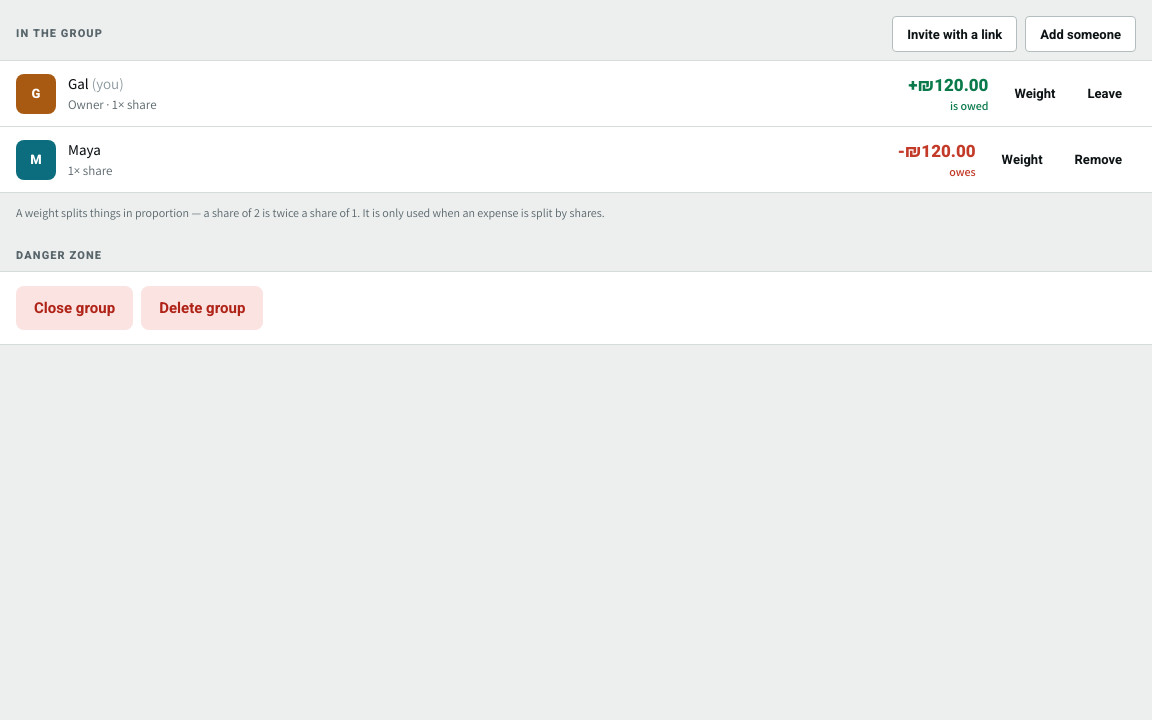
Scenario: the danger zone › keeps delete disabled until the group name is typed exactly
Click the button "Delete group".
click(202, 308)  # box top-left (141, 286), bottom-right (263, 330)
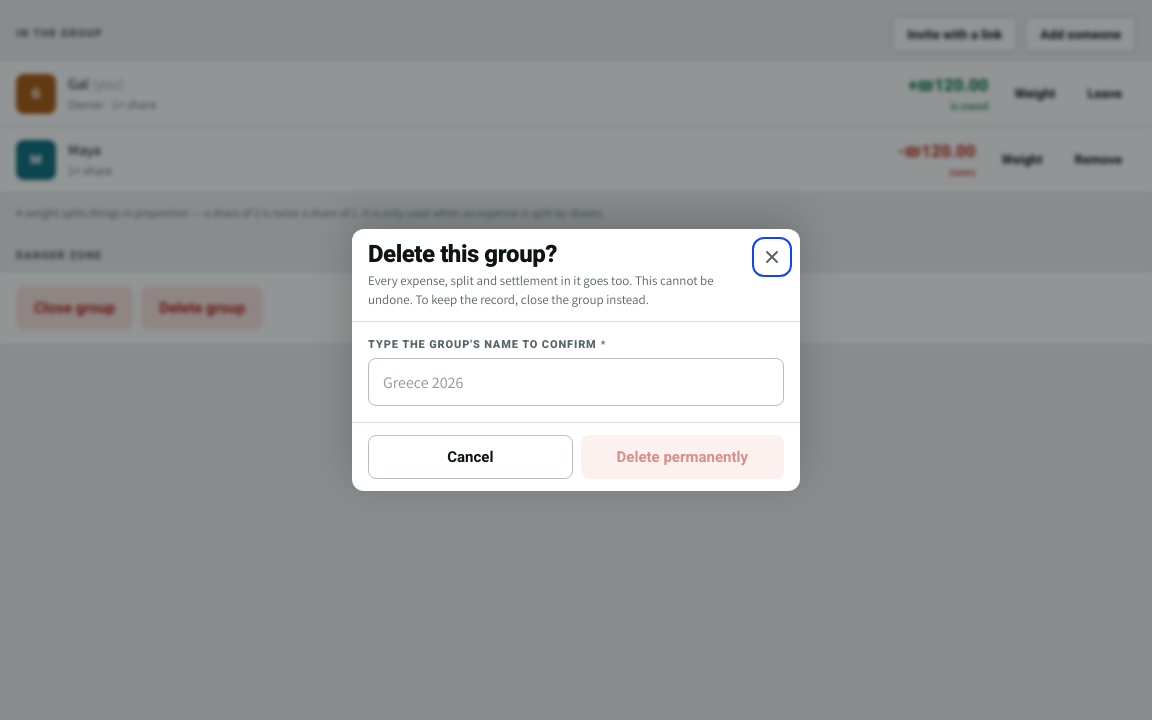
Check: the button "Delete permanently" is disabled, box top-left (581, 435), bottom-right (784, 479)
Type "Greece" into the field labelled "Type the group's name to confirm*".
click(576, 382); type("Greece")  # box top-left (368, 358), bottom-right (784, 406)
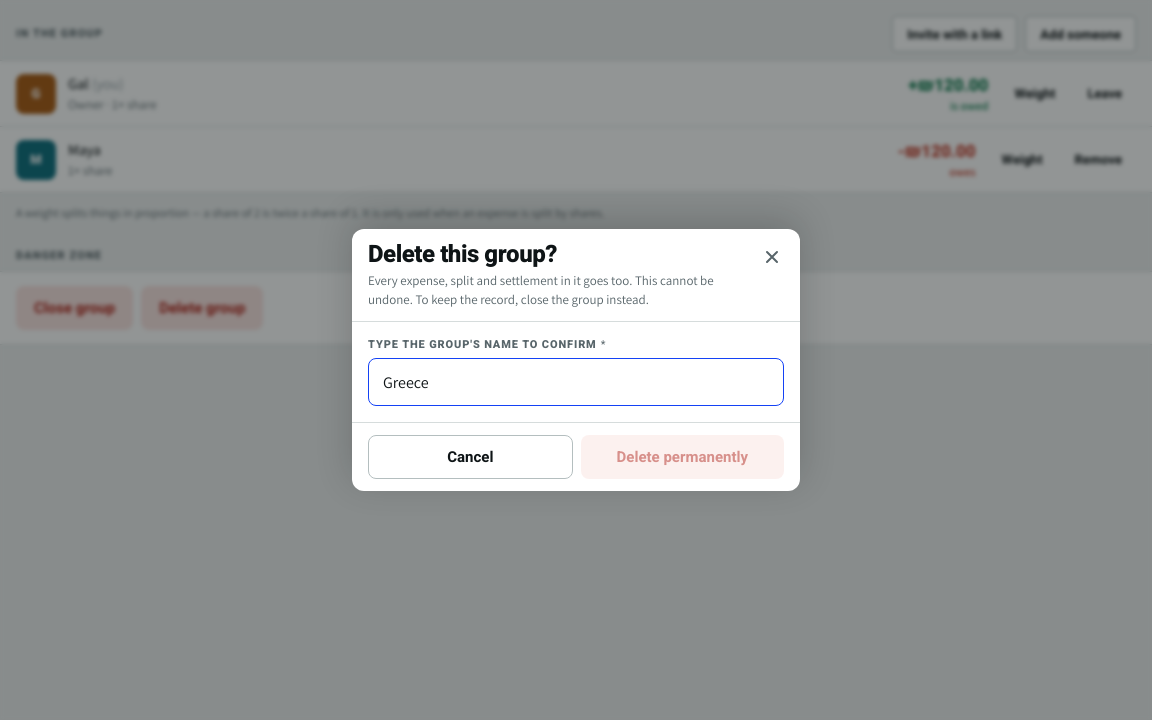
Check: the button "Delete permanently" is disabled, box top-left (581, 435), bottom-right (784, 479)
Type " 2026" into the field labelled "Type the group's name to confirm*".
click(576, 382); type(" 2026")  # box top-left (368, 358), bottom-right (784, 406)
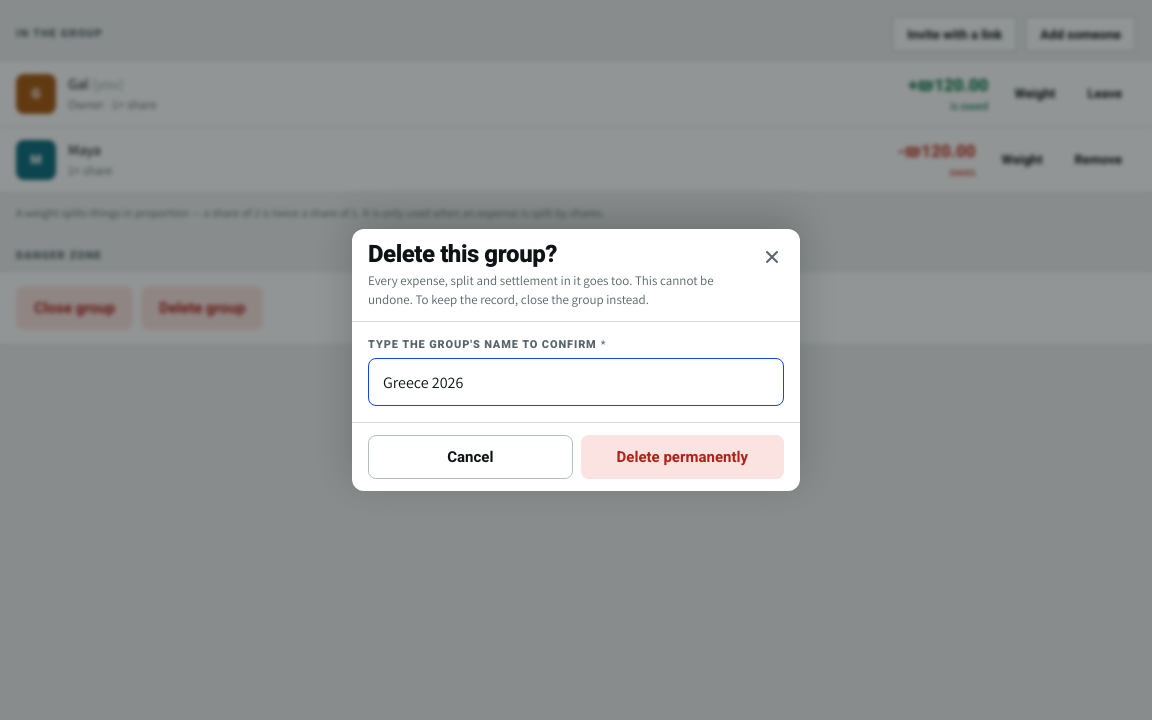
Check: the button "Delete permanently" is enabled, box top-left (581, 435), bottom-right (784, 479)
